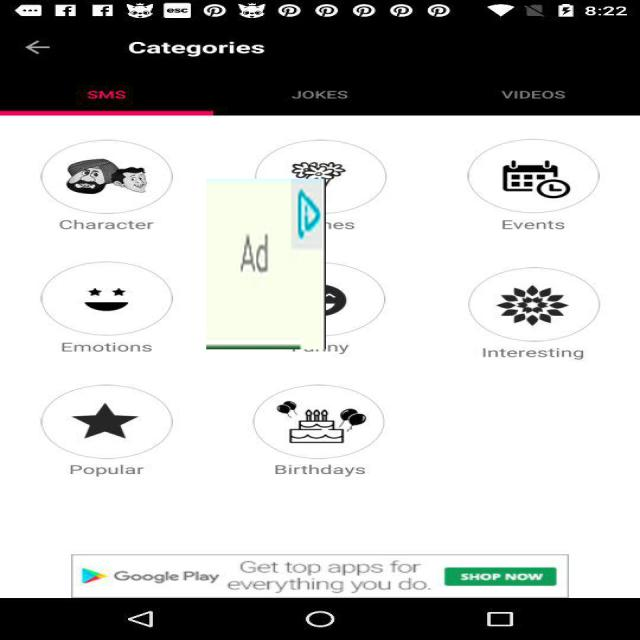sneaking: (206, 179, 326, 349)
